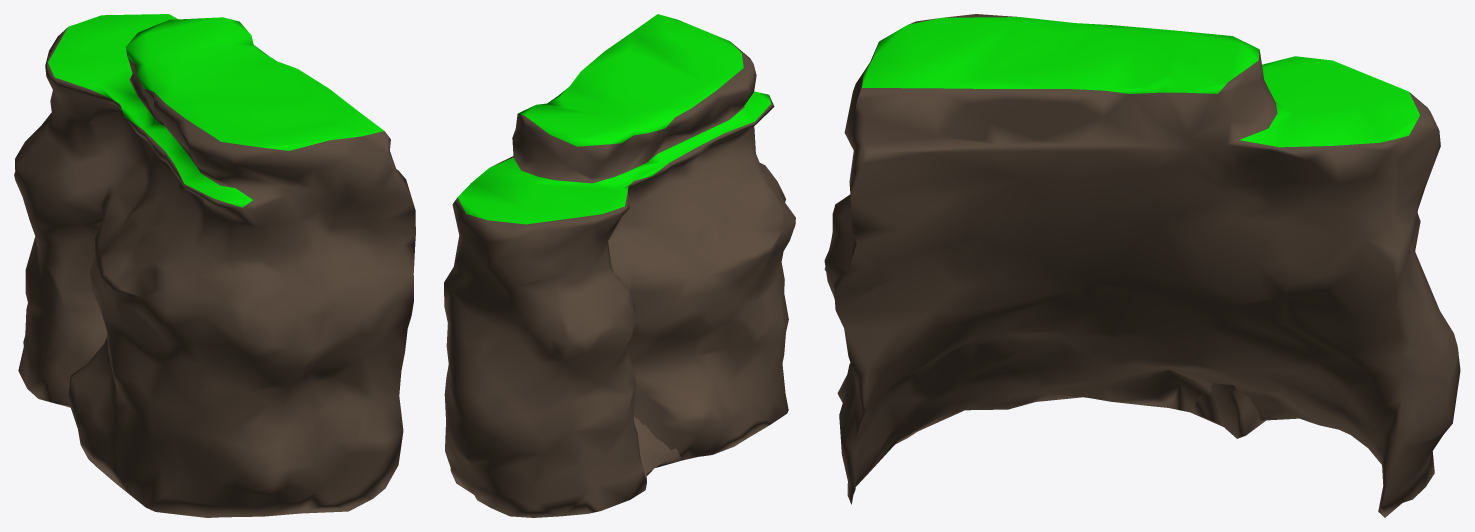
File: Cliff_7_Low.fbx
3 views of the same model, side by side, from view 1: azimuth 30°, elevation 25°; view 2: azimuth 150°, elevation 25°; view 3: azimuth 270°, elevation 25° (orthographic). The views are drawn at different scales.
Parts seen in each view (by area): view 1: Cliff_7_Low; view 2: Cliff_7_Low; view 3: Cliff_7_Low.
Boxes of the visible parts, box(x1,y1,x2,y2) form: Cliff_7_Low: box(14, 14, 415, 517); Cliff_7_Low: box(444, 14, 795, 517); Cliff_7_Low: box(824, 14, 1460, 517).
Bounding box in the file's own units: 1342 × 2081 × 2757.
